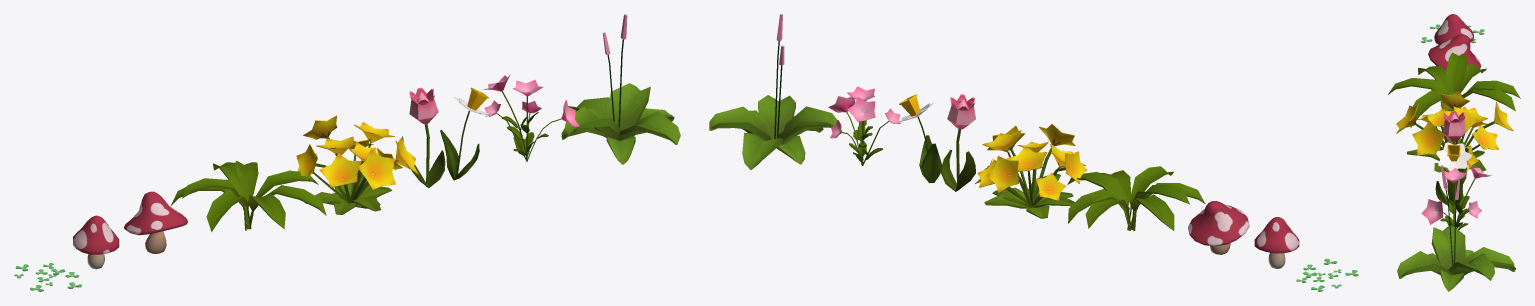
The model's file is flower.glb.
3 views of the same model, side by side, from view 1: azimuth 30°, elevation 25°; view 2: azimuth 150°, elevation 25°; view 3: azimuth 270°, elevation 25° (orthographic). The views are drawn at different scales.
Visible parts, largest first — view 1: muhomor2:pCube1, plant4:sweep7, grib3:pCube2, plant4:sweep5, flovers9:pDisc3, flovers9:pDisc5, plant4:sweep3, tulip1:pasted__polySurface2, podorojnik2:pasted__sweep2, podorojnik2:sweep3, podorojnik2:sweep1, podorojnik2:sweep4 (+10 smaller); view 2: muhomor2:pCube1, grib3:pCube2, plant4:sweep7, plant4:sweep5, plant4:sweep3, plant4:sweep8, flovers9:pasted__pDisc6, podorojnik2:pasted__sweep1, tulip1:sweep4, tulip1:pasted__polySurface2, podorojnik2:sweep4, podorojnik2:sweep3 (+12 smaller); view 3: plant4:sweep3, muhomor2:pCube1, plant4:sweep5, flovers9:pasted__pDisc3, narsis:polySurface17, grib3:pCube2, plant4:sweep7, podorojnik2:sweep2, tulip1:pasted__polySurface2, plant4:sweep8, podorojnik2:pasted__sweep4, podorojnik2:sweep3 (+23 smaller).
Boxes of the visible parts, x1,y1,x2,y2 form: muhomor2:pCube1: (124, 191, 187, 235); plant4:sweep7: (607, 83, 650, 130); grib3:pCube2: (73, 215, 119, 254); plant4:sweep5: (617, 111, 680, 144); flovers9:pDisc3: (358, 148, 395, 189); flovers9:pDisc5: (319, 153, 361, 187); plant4:sweep3: (565, 106, 622, 140); tulip1:pasted__polySurface2: (409, 87, 438, 123); podorojnik2:pasted__sweep2: (206, 190, 251, 231); podorojnik2:sweep3: (248, 193, 285, 229); podorojnik2:sweep1: (213, 162, 250, 229); podorojnik2:sweep4: (248, 170, 318, 221); muhomor2:pCube1: (1188, 201, 1249, 246); grib3:pCube2: (1254, 217, 1299, 253); plant4:sweep7: (709, 106, 771, 140); plant4:sweep5: (758, 95, 795, 139); plant4:sweep3: (777, 106, 837, 139); plant4:sweep8: (742, 132, 784, 169); flovers9:pasted__pDisc6: (986, 156, 1018, 192); podorojnik2:pasted__sweep1: (1130, 194, 1174, 230); tulip1:sweep4: (940, 149, 975, 191); tulip1:pasted__polySurface2: (947, 94, 975, 129); podorojnik2:sweep4: (1067, 172, 1131, 230); podorojnik2:sweep3: (1127, 166, 1173, 229); plant4:sweep3: (1431, 225, 1465, 269); muhomor2:pCube1: (1428, 34, 1480, 69); plant4:sweep5: (1397, 251, 1453, 278); flovers9:pasted__pDisc3: (1412, 120, 1444, 155); narsis:polySurface17: (1436, 142, 1471, 171); grib3:pCube2: (1434, 14, 1473, 44); plant4:sweep7: (1448, 253, 1494, 280); podorojnik2:sweep2: (1446, 52, 1467, 93); tulip1:pasted__polySurface2: (1442, 111, 1466, 141); plant4:sweep8: (1464, 247, 1515, 275); podorojnik2:pasted__sweep4: (1461, 84, 1515, 111); podorojnik2:sweep3: (1388, 78, 1447, 94).
Size of the model in its own units: 1.11 by 0.2173 by 0.2315.
20 materials, 20 textured.
